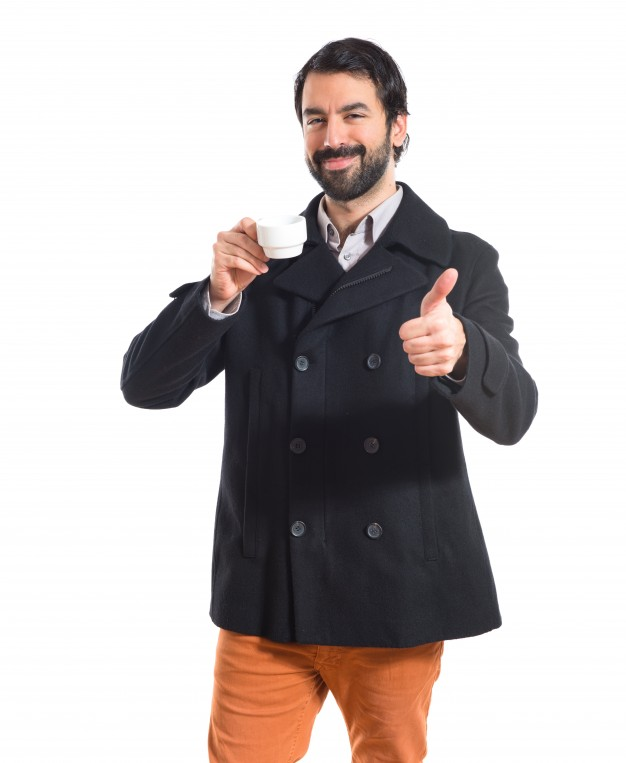thumbsup: (398, 267, 458, 376)
